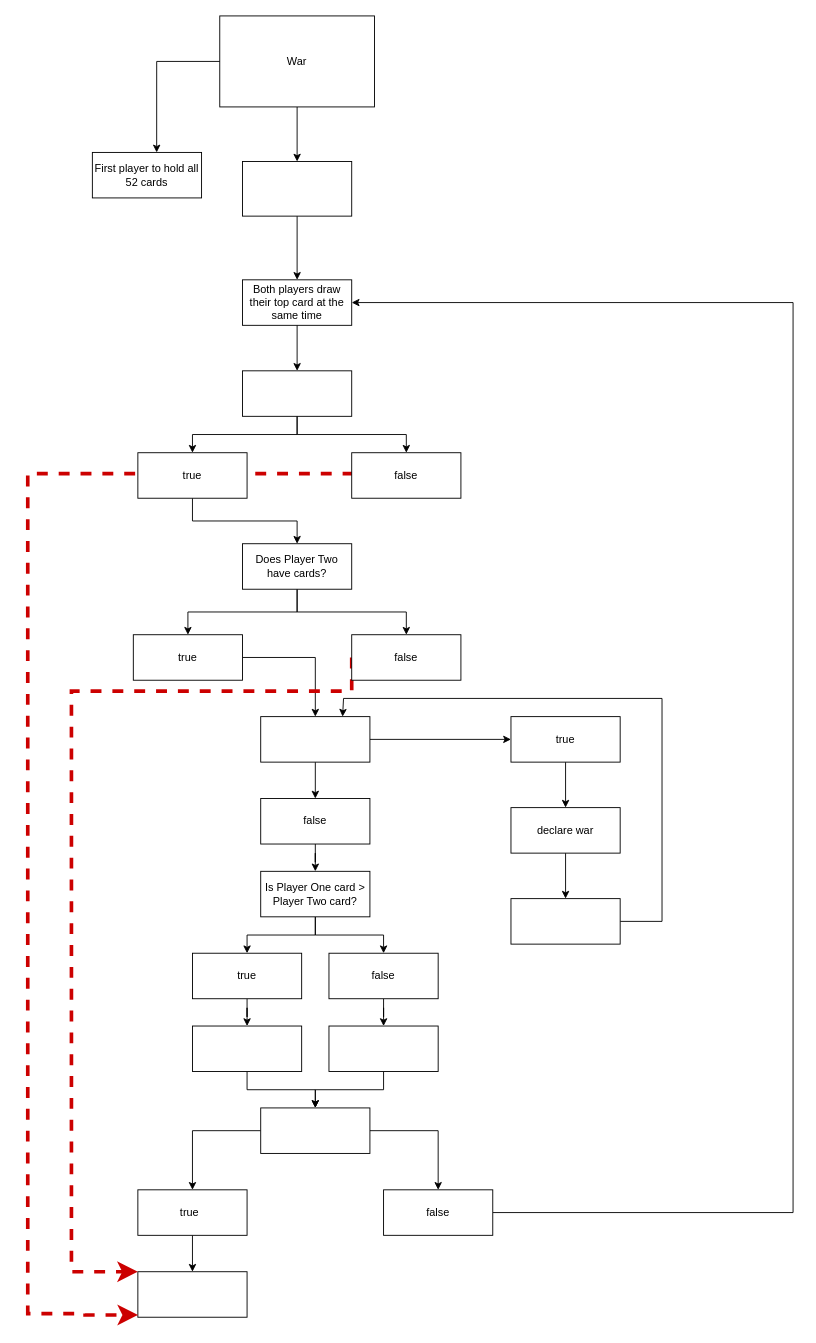
The diagram is 816 pixels wide and 1343 high, and some of its shapes have lost their labels. Here are the shapes that lost their labels. From the top down, the box of each, then its label:
(242, 161, 352, 216): Each player gets 26 random cards
(242, 370, 352, 416): Does Player One have cards?
(260, 716, 370, 762): Same card drawn?
(510, 898, 620, 944): draw 4th card
(192, 1025, 302, 1072): Player One gains Player Two's card
(328, 1025, 438, 1072): Player Two gains Player One's card
(260, 1107, 370, 1153): Is Player's array === 'WinningArray' ?
(137, 1271, 247, 1317): Player Wins
